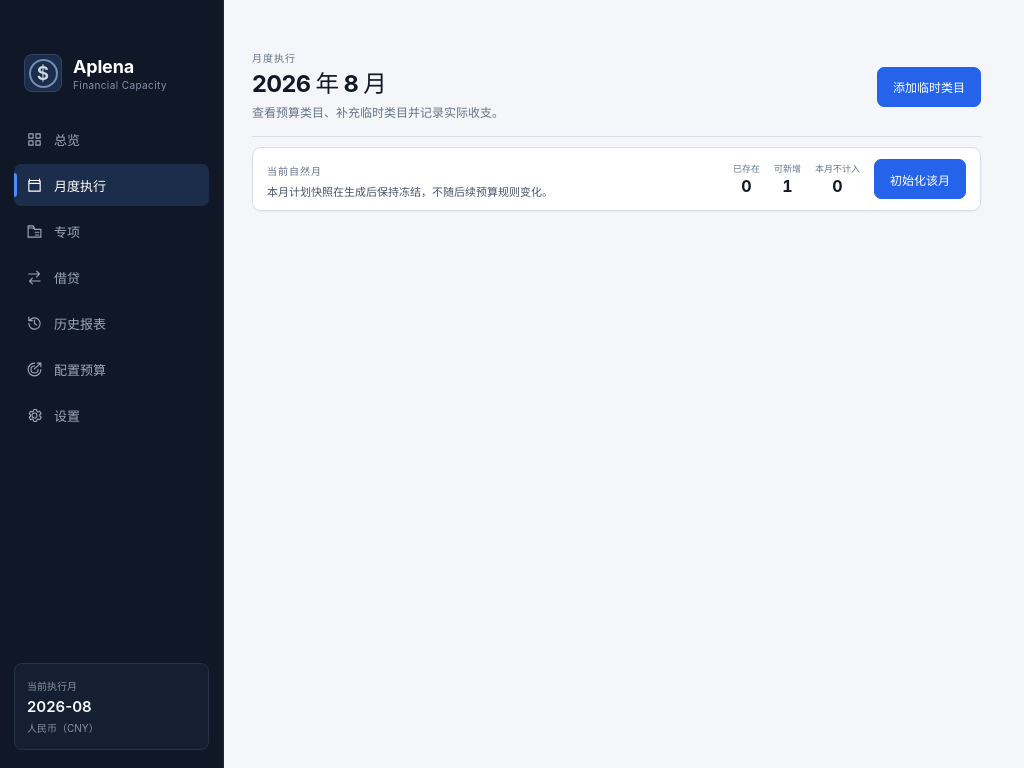
Scenario: planning workflows › creates a temporary category without synthesizing an actual entry
The image size is (1024, 768).
Click the button "添加临时类目": coordinates (929, 86) [877,66,981,106]
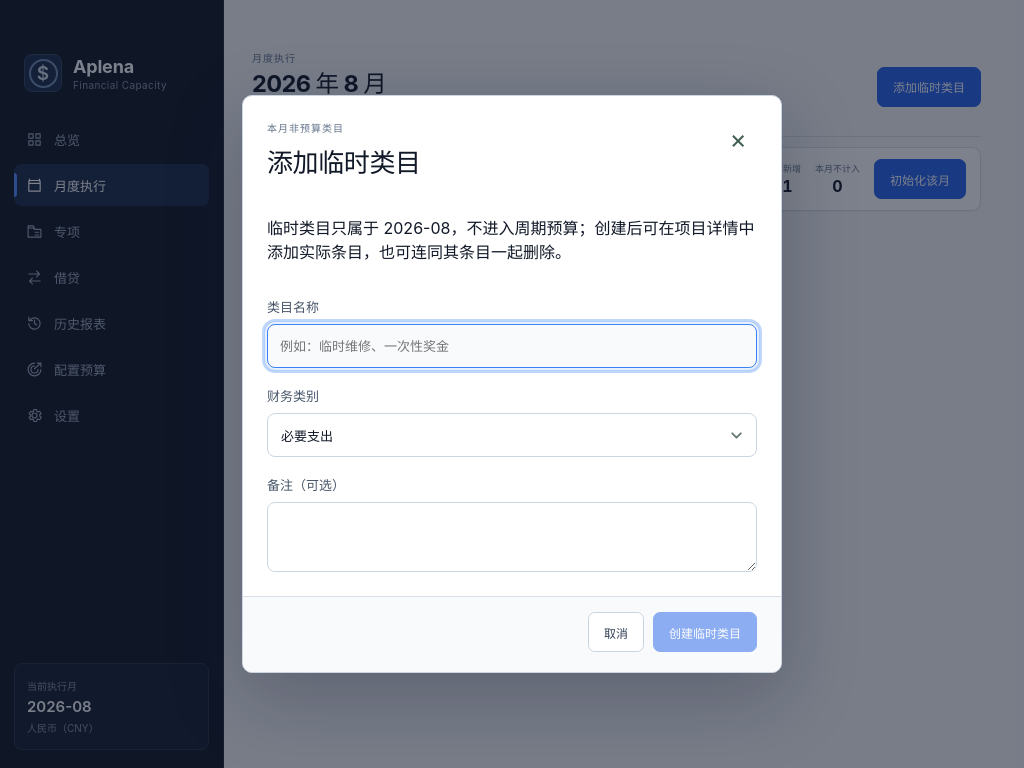
In the field labelled "类目名称": coordinates (512, 346) [267,324,757,368], type "本月房租"
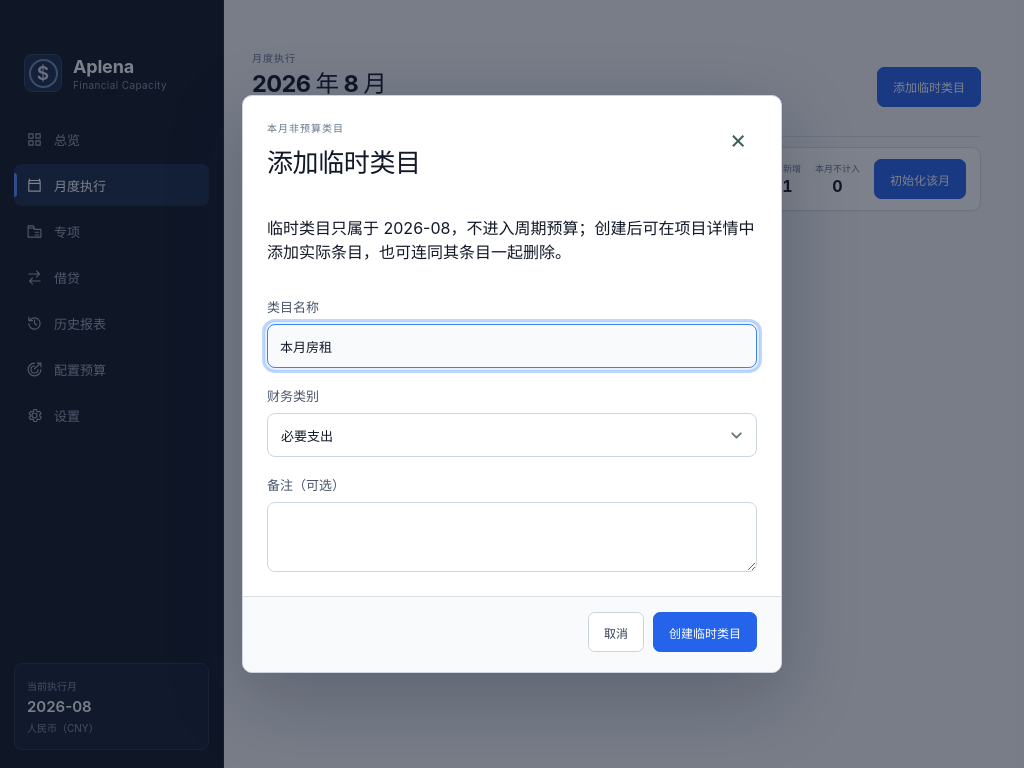
Click the button "创建临时类目": coordinates (705, 632) [653,612,757,652]
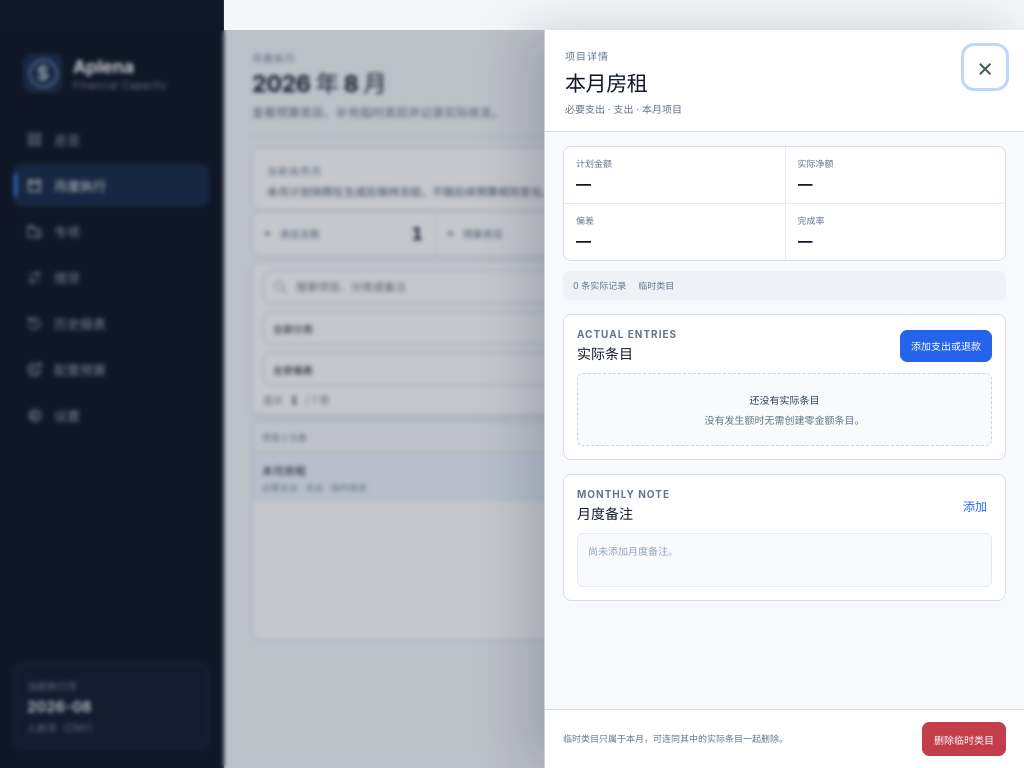
Check: the dialog "本月房租" is shown, box [544,30,1023,767]
